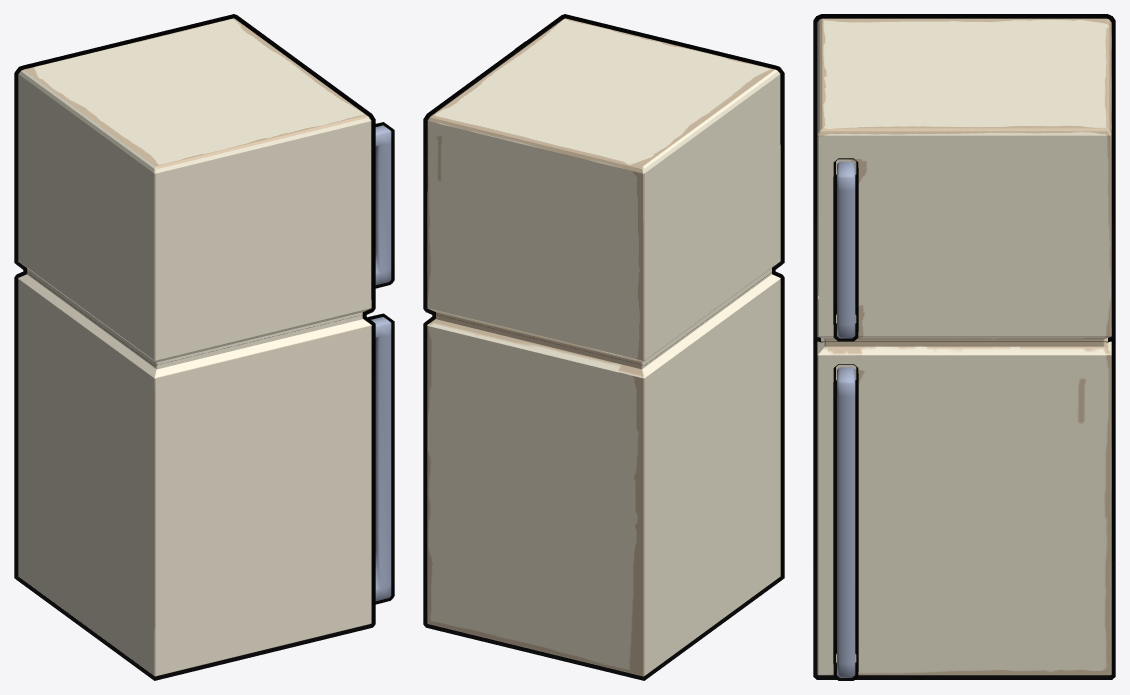
The model's file is RoomFridgeV1.fbx.
3 renders of one model, left to right at view 1: azimuth 30°, elevation 25°; view 2: azimuth 150°, elevation 25°; view 3: azimuth 270°, elevation 25°, orthographic. The views are drawn at different scales.
Visible parts, largest first — view 1: Plane, Bottom Handle, Top Handle; view 2: Plane; view 3: Plane, Bottom Handle, Top Handle.
Part boxes in pixels (x1,y1,x2,y2): Plane: [14, 14, 375, 680]; Bottom Handle: [368, 313, 394, 604]; Top Handle: [375, 122, 394, 288]; Plane: [423, 14, 784, 680]; Plane: [813, 14, 1115, 679]; Bottom Handle: [833, 364, 858, 680]; Top Handle: [833, 158, 858, 341].
Size of the model in its own units: 86.12 by 168 by 83.
4 materials, 2 textured.
